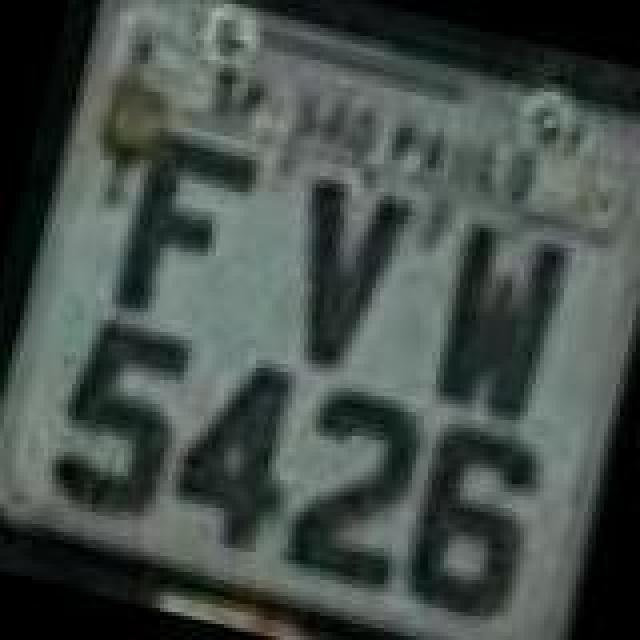2: (274, 382, 430, 594)
4: (162, 350, 318, 562)
5: (32, 308, 200, 540)
6: (396, 414, 548, 626)
F: (106, 126, 262, 338)
V: (266, 170, 422, 382)
W: (418, 216, 574, 432)
